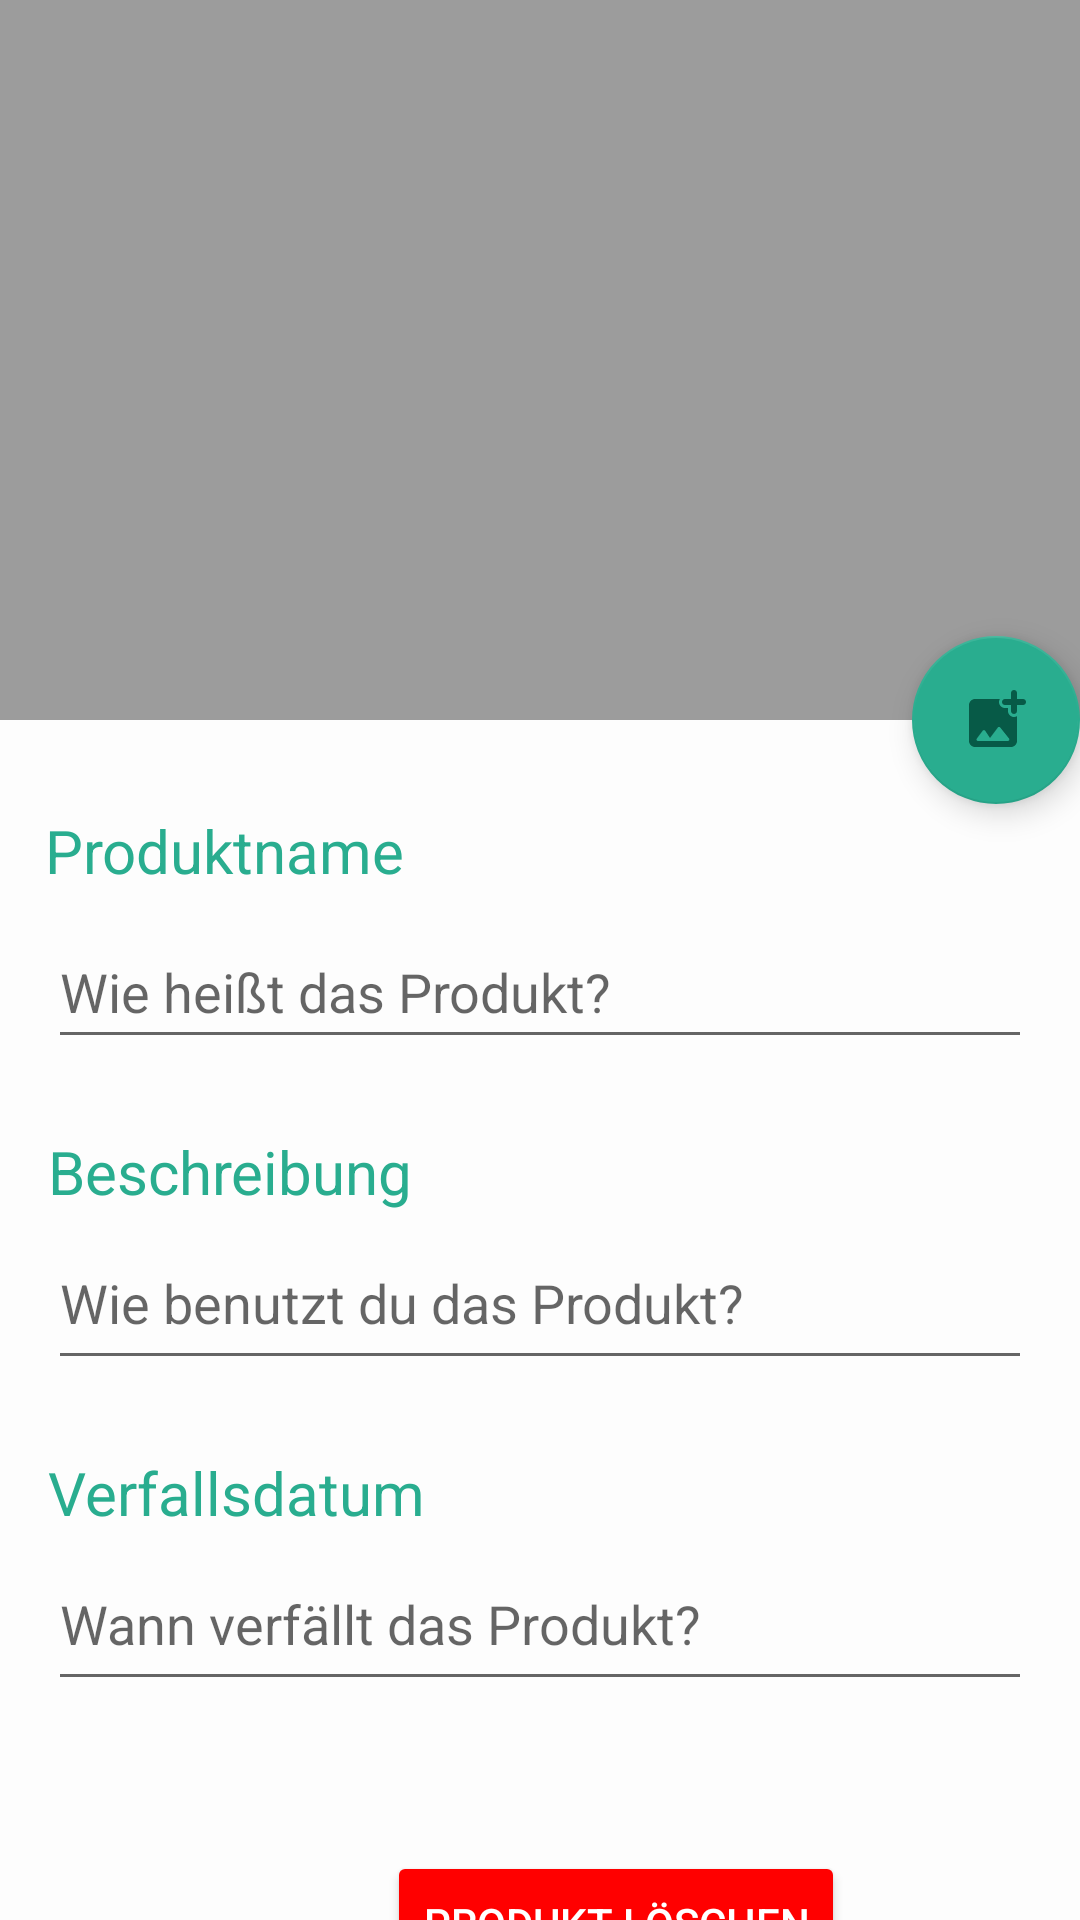

Icons on this 1080 × 1920 Android screen, each with the point to tap as point (x, y):
add photo alternate: point (996, 720)
